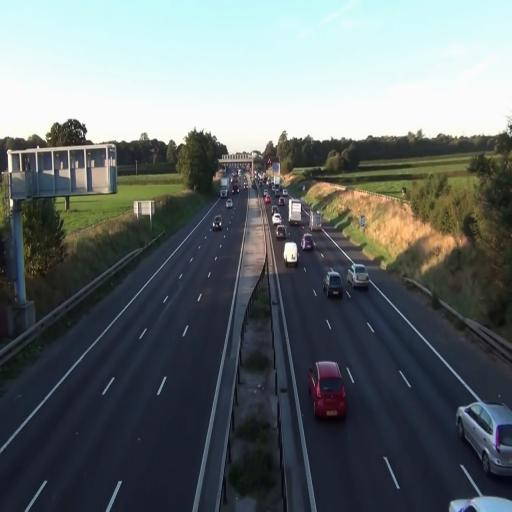vehicle: (456, 400, 512, 479), (308, 360, 348, 421), (324, 269, 343, 300), (349, 264, 369, 289), (284, 241, 298, 267), (302, 234, 314, 252), (212, 217, 221, 232)
